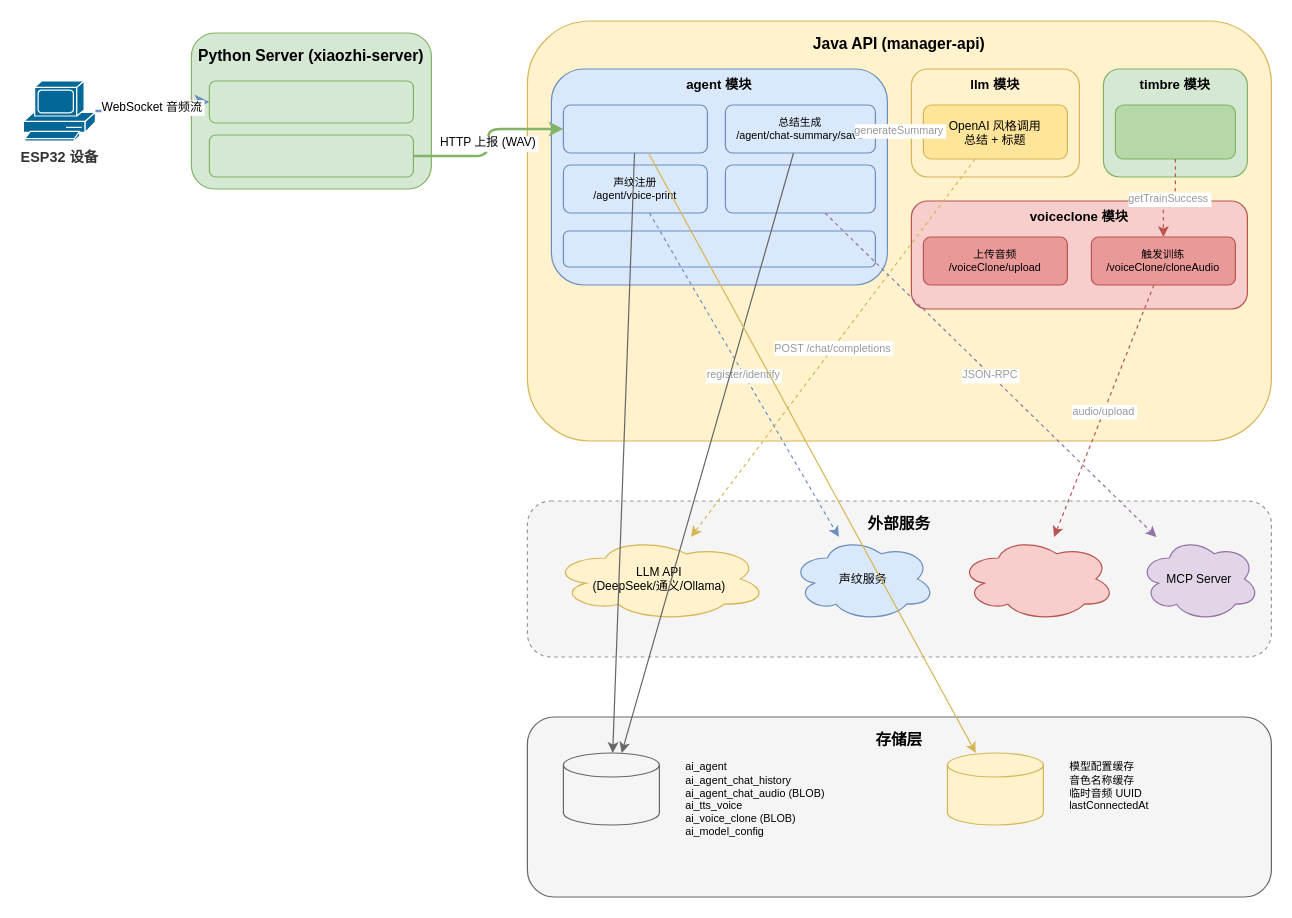
Image size: 1292x918. Some labels were removed from this diagram. The shapes that lost their labels are listed below. From the top down, each one's centre as x and y in pixels, then its label:
the point at 310,101: WebSocket Server (Port 8000)
the point at 634,128: 聊天上报 /agent/chat-history/report
the point at 1174,131: 音色列表 /ttsVoice
the point at 310,155: 语音处理 Opus→PCM→WAV→Base64
the point at 799,188: MCP 工具 /agent/mcp/tools
the point at 718,248: 智能体 CRUD / 标签 / 级联删除
the point at 1036,578: 火山引擎 mega_tts
the point at 610,788: MySQL
the point at 994,788: Redis
